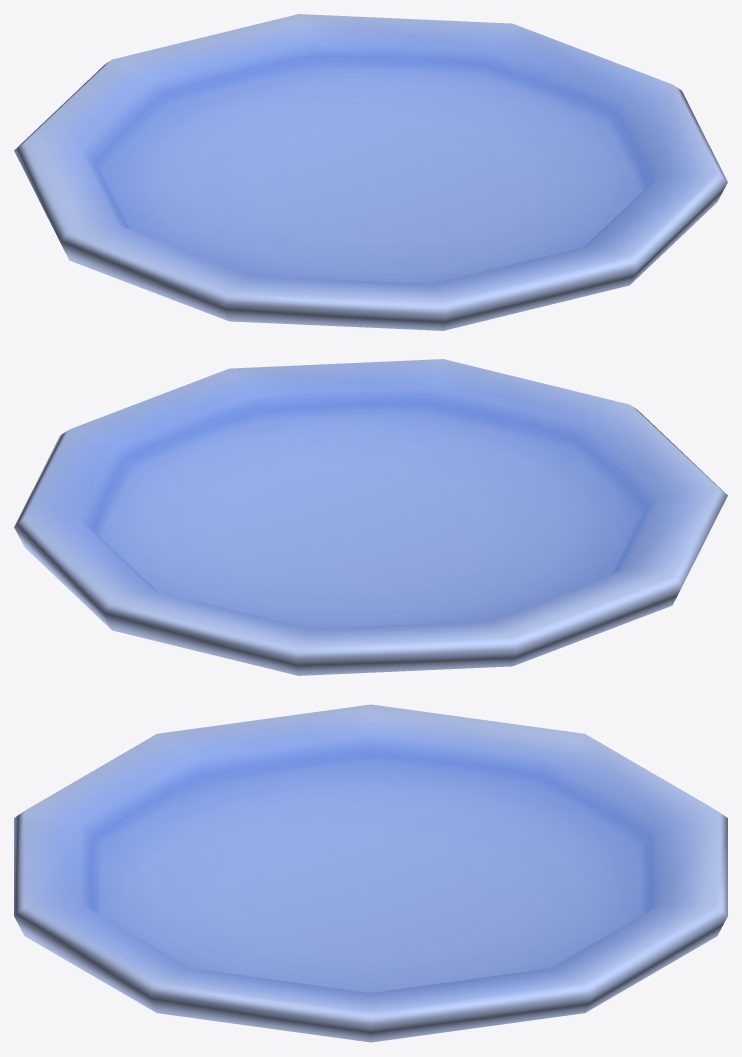
The model's file is Plate_03.fbx.
3 renders of one model, top to bottom at view 1: azimuth 30°, elevation 25°; view 2: azimuth 150°, elevation 25°; view 3: azimuth 270°, elevation 25°, orthographic. The views are drawn at different scales.
Visible parts, largest first — view 1: Plate_03; view 2: Plate_03; view 3: Plate_03.
Boxes of the visible parts, x1,y1,x2,y2 form: Plate_03: (14, 14, 727, 330); Plate_03: (14, 359, 727, 675); Plate_03: (14, 704, 727, 1042).
Bounding box in the file's own units: 66.33 × 6.19 × 63.08.
